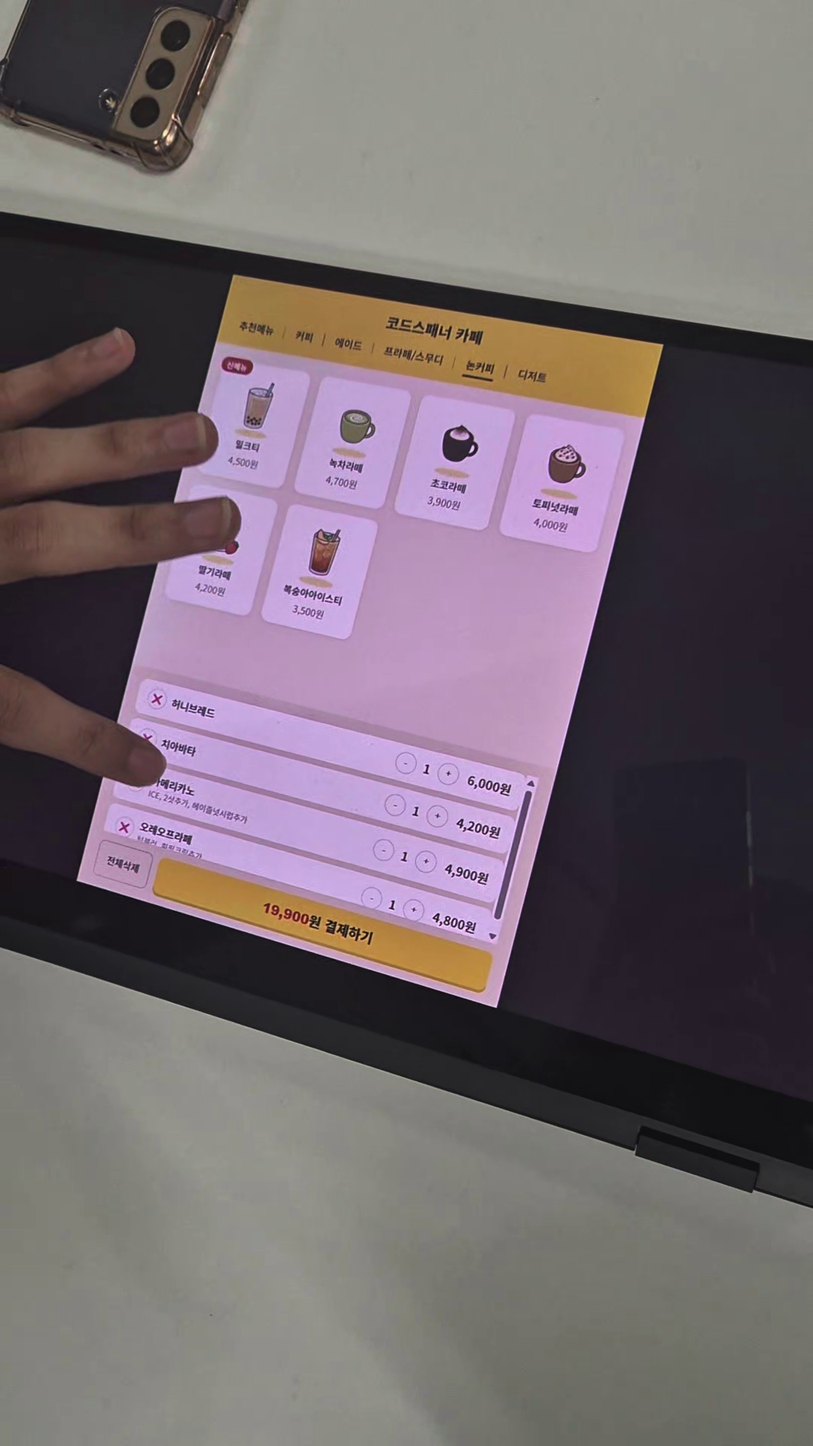action_button: (151, 857, 494, 994), (91, 839, 154, 888)
cart_item: (112, 758, 504, 904), (102, 802, 493, 946), (123, 719, 515, 854), (134, 678, 526, 812)
category_tab: (497, 414, 628, 555), (392, 393, 518, 532), (290, 375, 414, 512), (259, 503, 381, 641), (193, 356, 312, 490), (162, 483, 279, 618), (382, 345, 445, 368), (237, 319, 276, 340), (465, 359, 497, 376), (516, 367, 547, 384), (333, 336, 364, 352), (292, 329, 317, 345)
menu_name: (137, 818, 195, 849), (167, 696, 218, 726), (281, 583, 344, 606), (148, 773, 198, 801), (531, 496, 580, 519), (157, 737, 199, 763), (327, 456, 364, 475), (430, 477, 467, 495), (197, 564, 233, 582), (233, 438, 261, 455)
menu_price: (462, 771, 515, 802), (451, 813, 504, 844), (428, 906, 481, 937), (441, 858, 493, 889), (531, 516, 570, 535), (424, 494, 462, 513), (322, 473, 360, 492), (291, 603, 326, 620), (192, 580, 227, 597), (226, 454, 260, 471)
